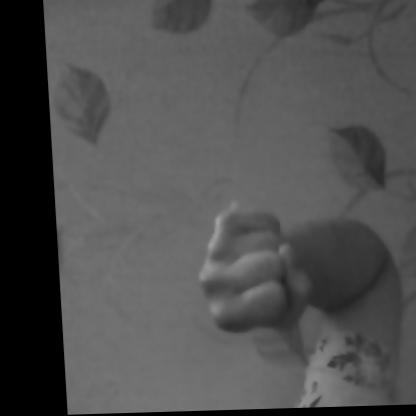fist: (171, 166, 400, 382)
